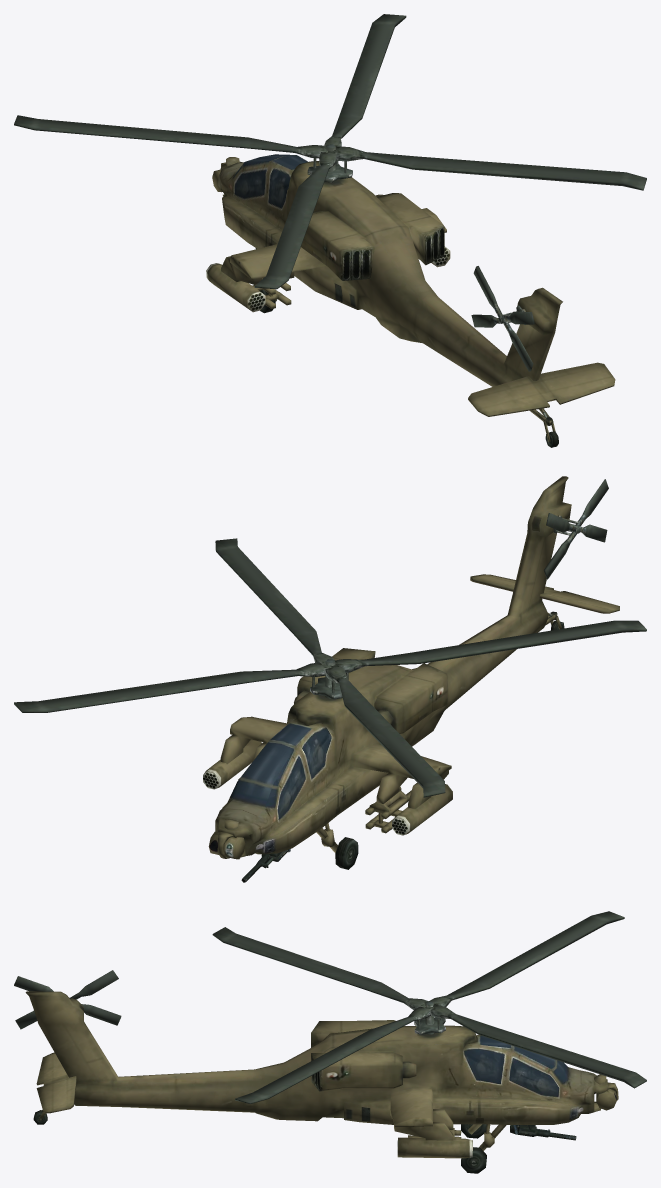
Rendered from apache.glb.
The picture shows the model from 3 angles, top to bottom: view 1: azimuth 30°, elevation 25°; view 2: azimuth 150°, elevation 25°; view 3: azimuth 270°, elevation 25°; orthographic projection. The views are drawn at different scales.
Visible parts, largest first — view 1: apache_0, apache_rotor, apache_tail; view 2: apache_0, apache_rotor, apache_tail; view 3: apache_0, apache_rotor, apache_tail.
Boxes of the visible parts, <box> form: apache_0: <box>206,154,615,447</box>; apache_rotor: <box>14,14,646,289</box>; apache_tail: <box>471,266,534,371</box>; apache_0: <box>203,476,619,882</box>; apache_rotor: <box>14,538,646,797</box>; apache_tail: <box>544,479,608,579</box>; apache_0: <box>25,991,618,1173</box>; apache_rotor: <box>212,911,646,1103</box>; apache_tail: <box>14,970,121,1029</box>.
Bounding box in the file's own units: 19.22 × 8.28 × 28.
1 material, 1 textured.
